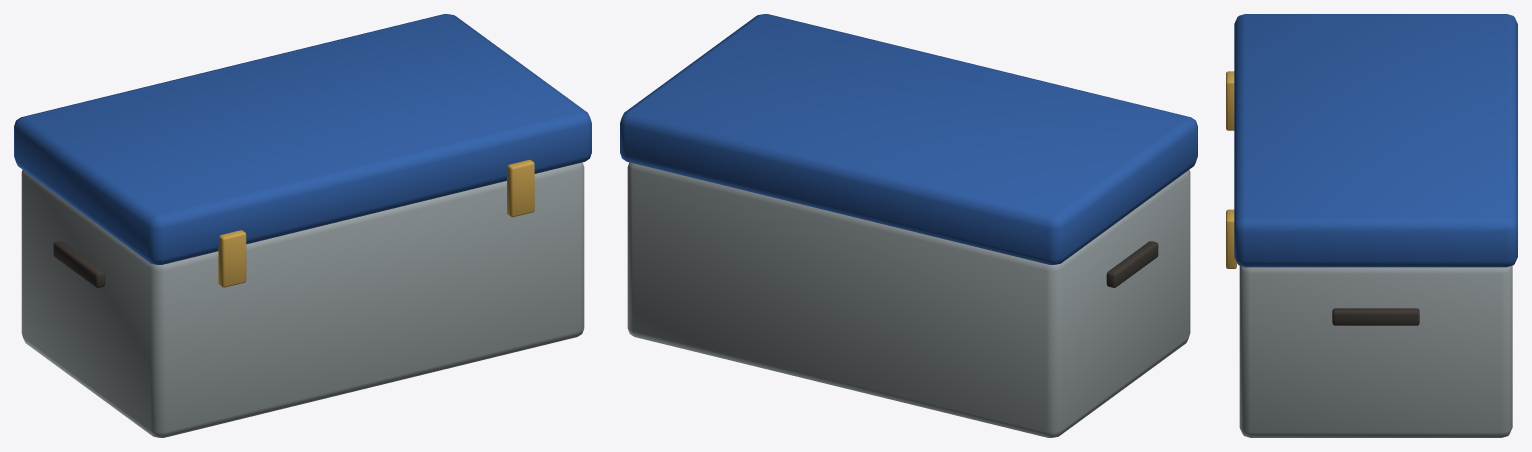
The model's file is steel_trunk.glb.
3 views of the same model, side by side, from view 1: azimuth 30°, elevation 25°; view 2: azimuth 150°, elevation 25°; view 3: azimuth 270°, elevation 25° (orthographic).
Visible parts, largest first — view 1: steel_trunk.001; view 2: steel_trunk.001; view 3: steel_trunk.001.
Part boxes in pixels (left/top/right/bottom): steel_trunk.001: left=14, top=14, right=591, bottom=437; steel_trunk.001: left=620, top=14, right=1197, bottom=437; steel_trunk.001: left=1226, top=14, right=1517, bottom=437.
Size of the model in its own units: 0.95 by 0.45 by 0.535.
